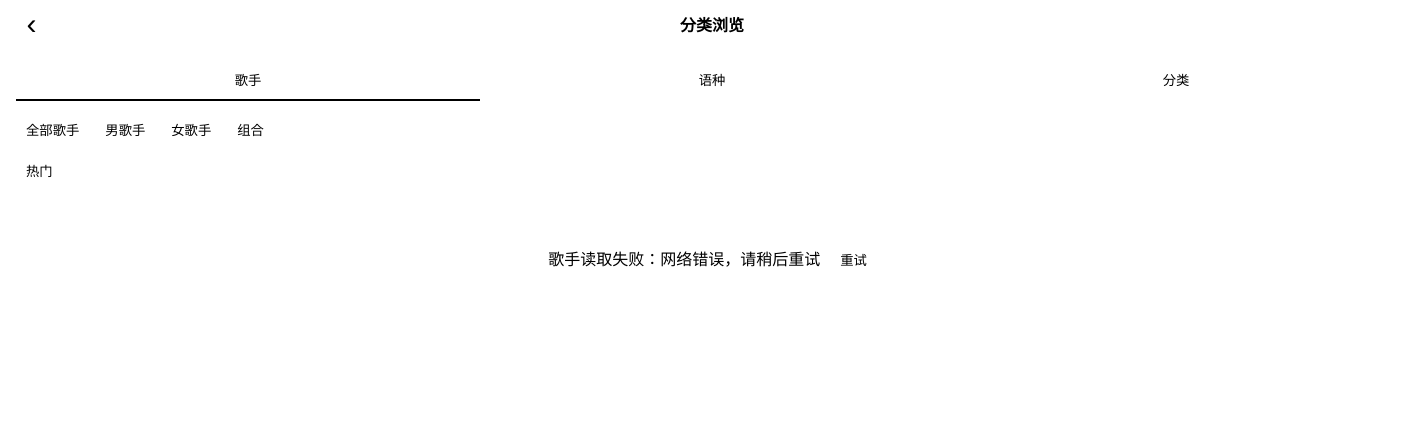
CategoryBrowseView › uses fallback text for initial and later artist-page errors without messages
Click the button with class "retry". click: (854, 260)
box: [831,246,876,273]
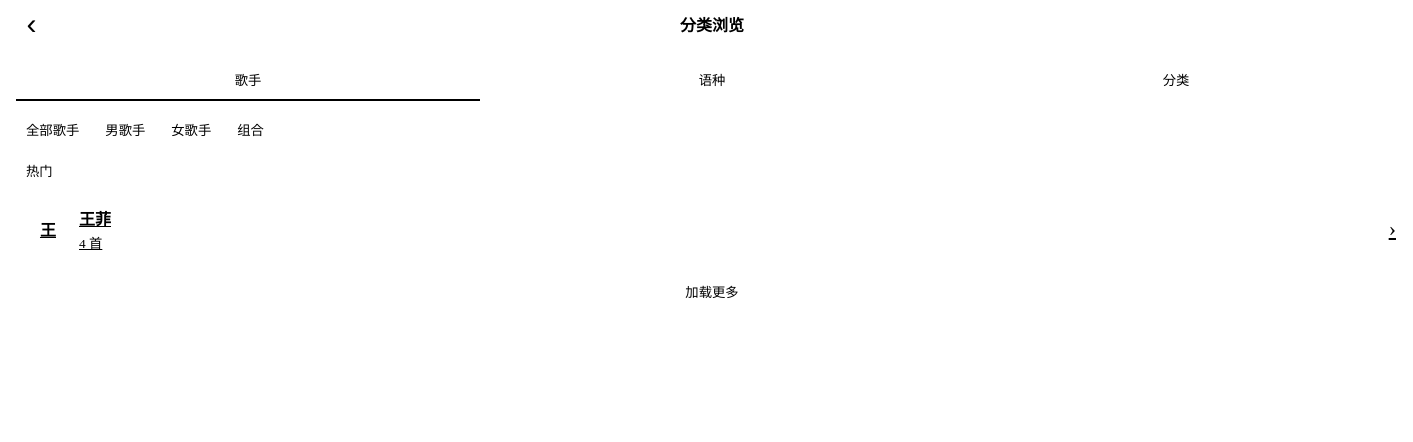
Click the button "加载更多". click: (712, 292)
box: [667,274,757,309]
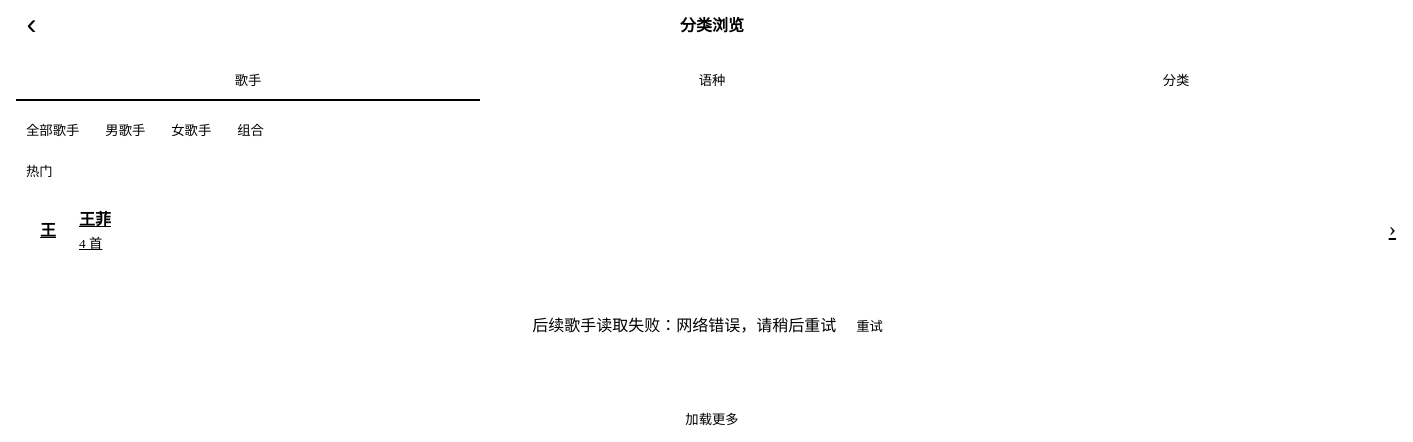
expect the element with class "artist-list" shows "王菲": met, box [28,196,1396,262]
expect the text "后续歌手读取失败：网络错误，请稍后重试" is shown: met, box [532,317,840,334]
